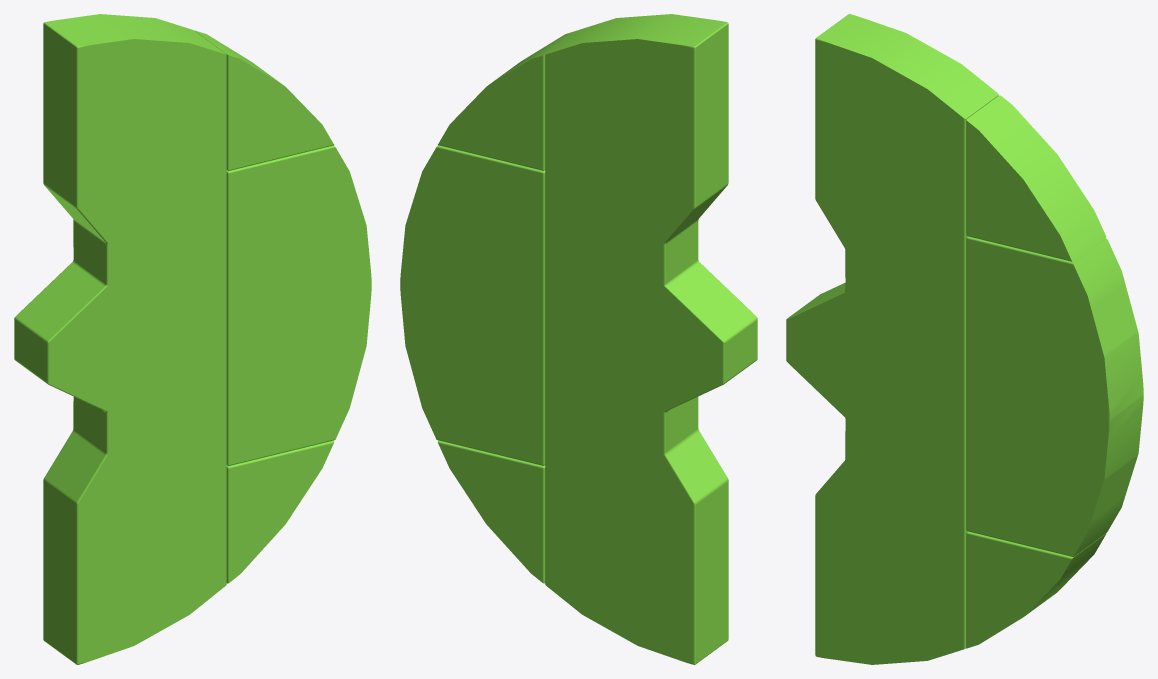
The model's file is R-Door.glb.
3 renders of one model, left to right at view 1: azimuth 30°, elevation 25°; view 2: azimuth 150°, elevation 25°; view 3: azimuth 330°, elevation 25°, orthographic.
Visible parts, largest first — view 1: 右扉; view 2: 右扉; view 3: 右扉.
Boxes of the visible parts, bbox=[...] form: 右扉: bbox=[14, 14, 371, 664]; 右扉: bbox=[400, 14, 757, 664]; 右扉: bbox=[786, 14, 1143, 664].
Size of the model in its own units: 1.1 by 2 by 0.2.
